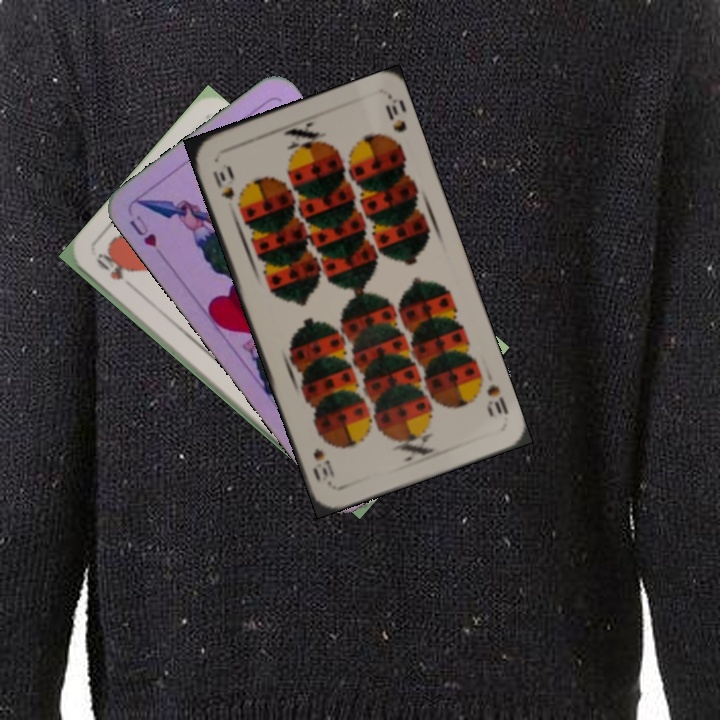HO: (91, 249, 126, 283)
HU: (125, 211, 160, 250)
S10: (209, 160, 237, 202), (482, 380, 511, 419)
